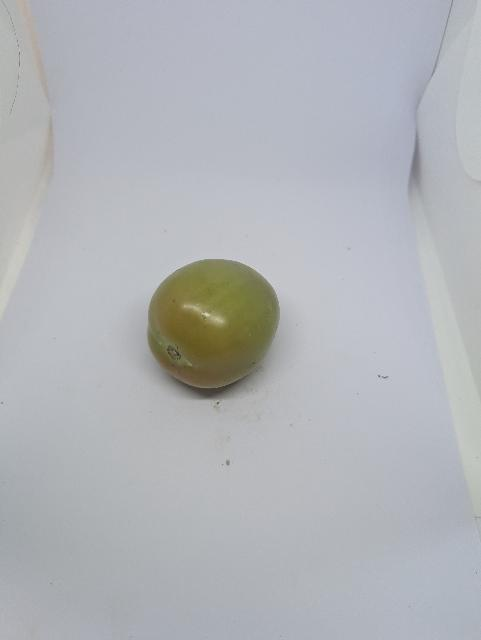breaker: (144, 246, 286, 399)
